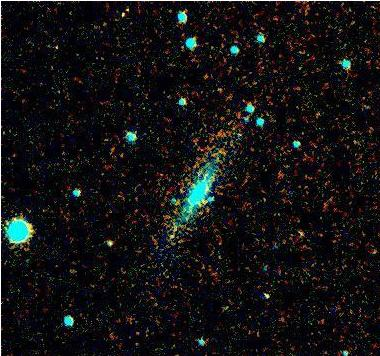star: (157, 218, 187, 248)
